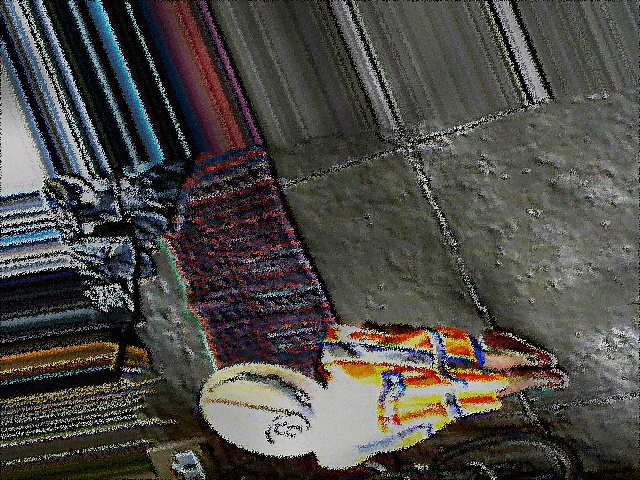eight: (259, 412, 314, 448)
